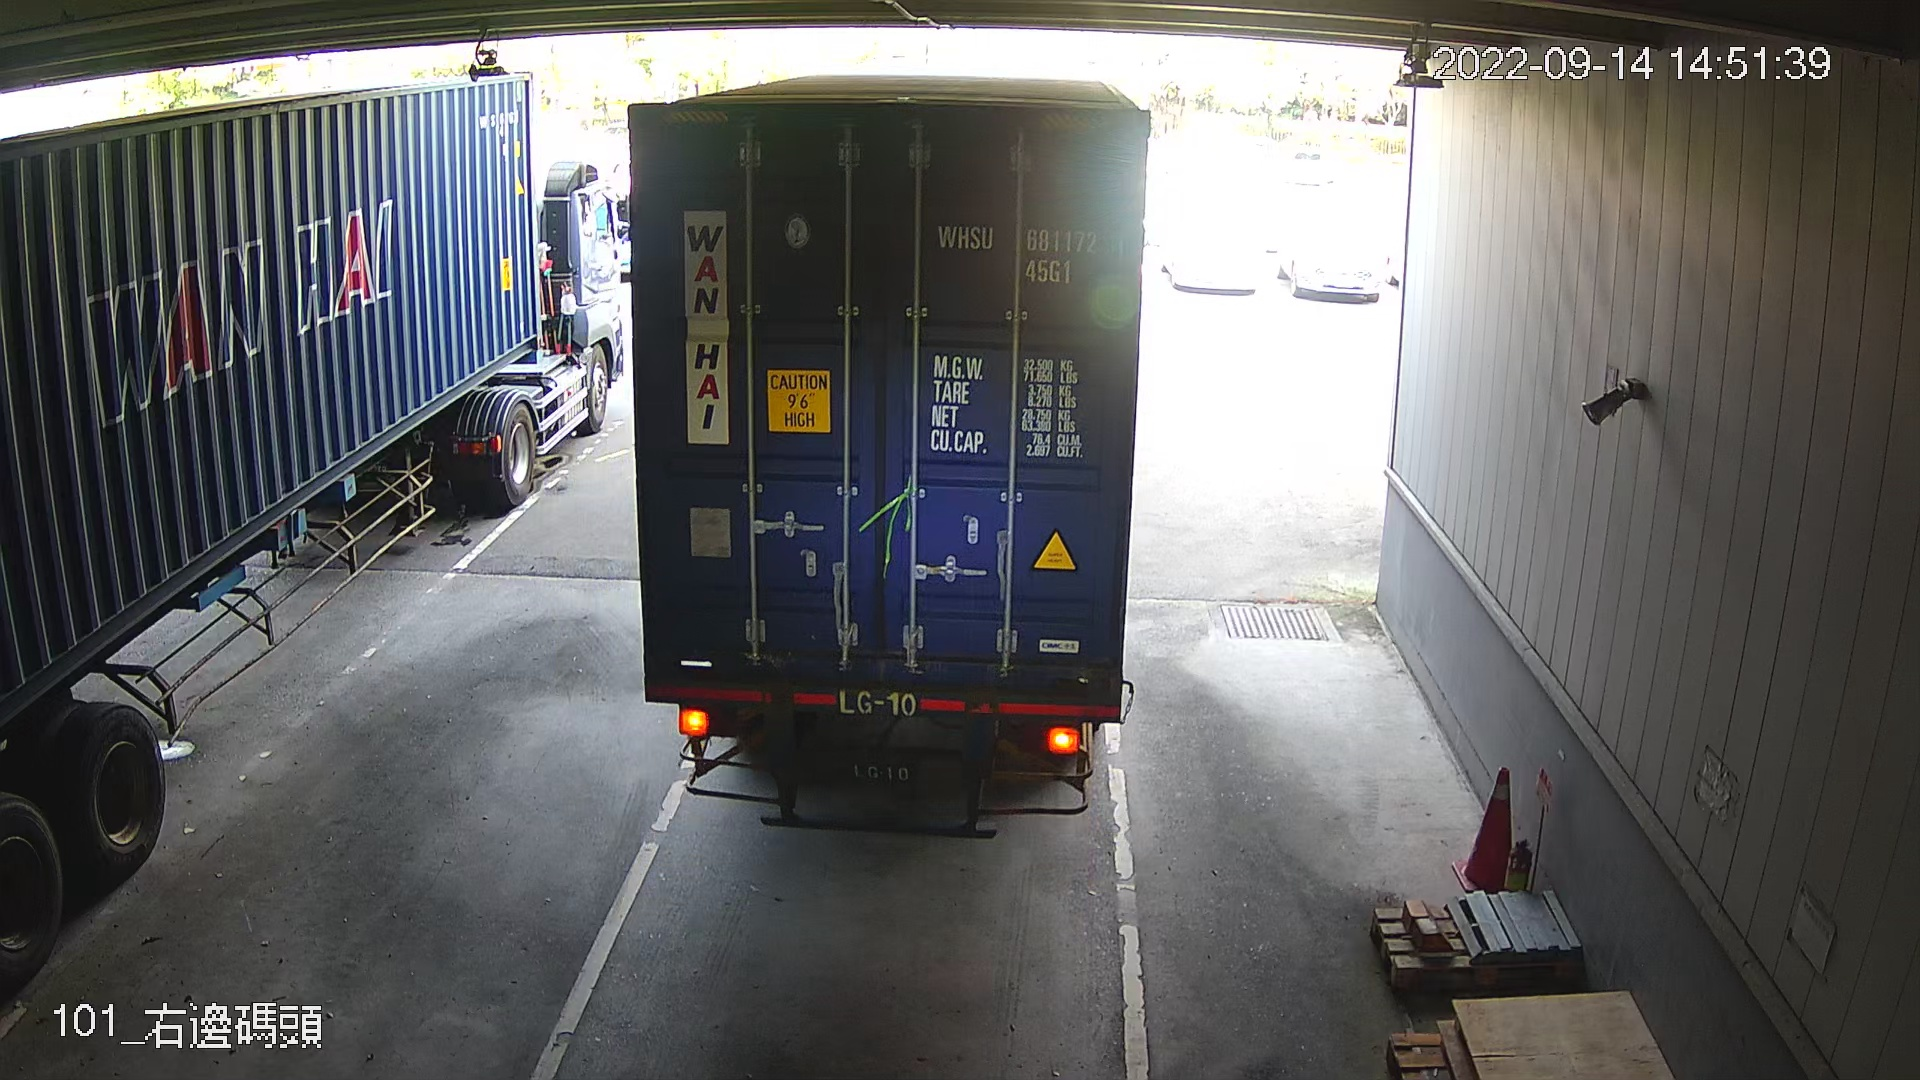container: (920, 214, 1138, 291)
